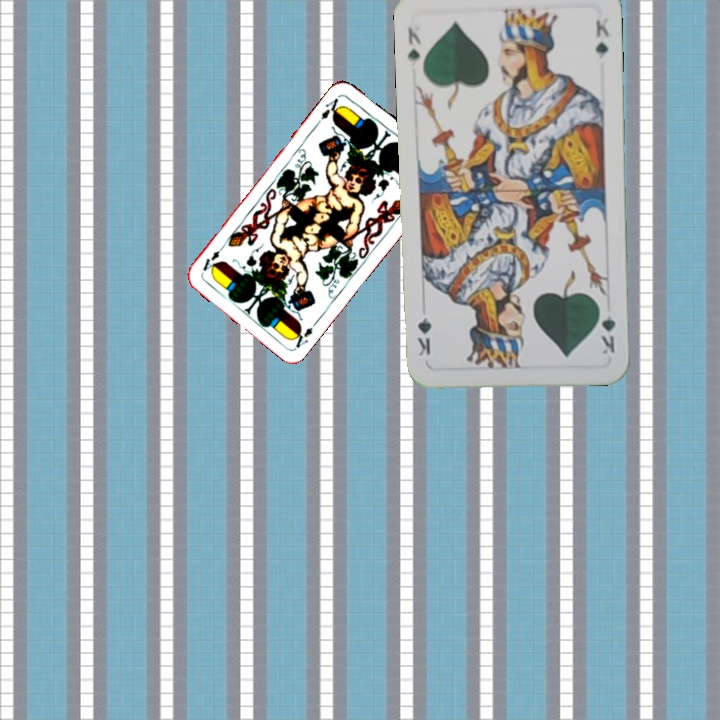EA: (288, 316, 321, 351), (313, 91, 344, 127)
GK: (595, 300, 619, 357), (403, 22, 423, 64)
